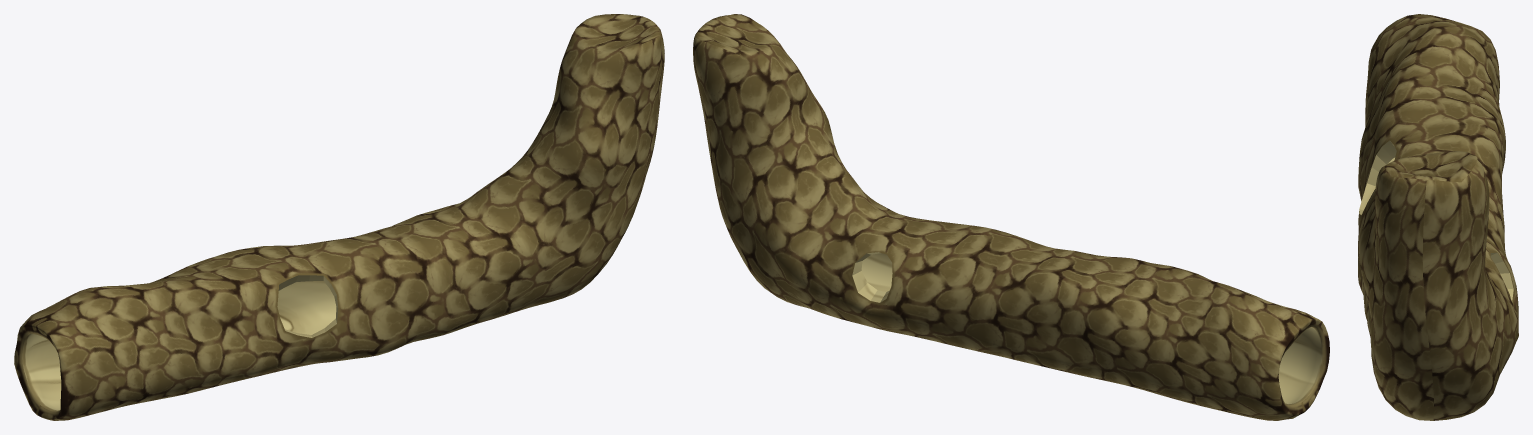
Rendered from TutorialLog.fbx.
3 views of the same model, side by side, from view 1: azimuth 30°, elevation 25°; view 2: azimuth 150°, elevation 25°; view 3: azimuth 270°, elevation 25° (orthographic). The views are drawn at different scales.
Parts seen in each view (by area): view 1: pCube7; view 2: pCube7; view 3: pCube7.
Boxes of the visible parts, bbox=[...] form: pCube7: bbox=[14, 14, 664, 420]; pCube7: bbox=[693, 14, 1329, 420]; pCube7: bbox=[1358, 14, 1518, 420].
Size of the model in its own units: 105 by 41.45 by 20.13.
1 material, 1 textured.
